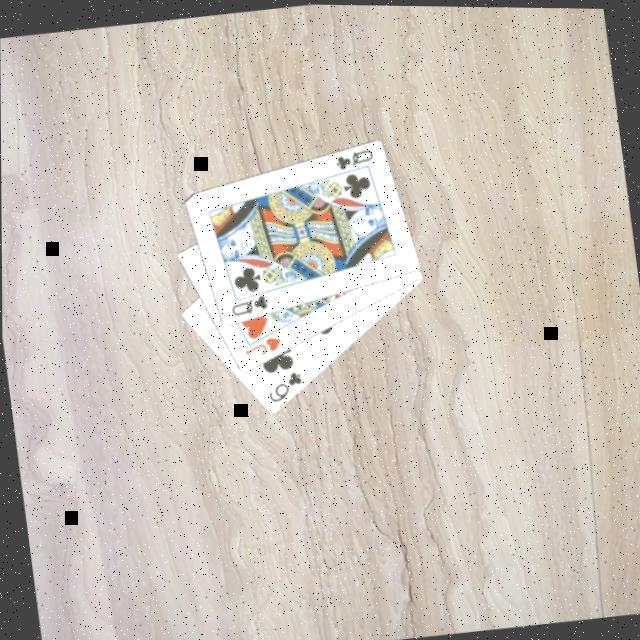6C: (260, 366, 306, 406)
JH: (238, 332, 284, 361)
QC: (329, 144, 376, 174), (226, 290, 272, 320)
